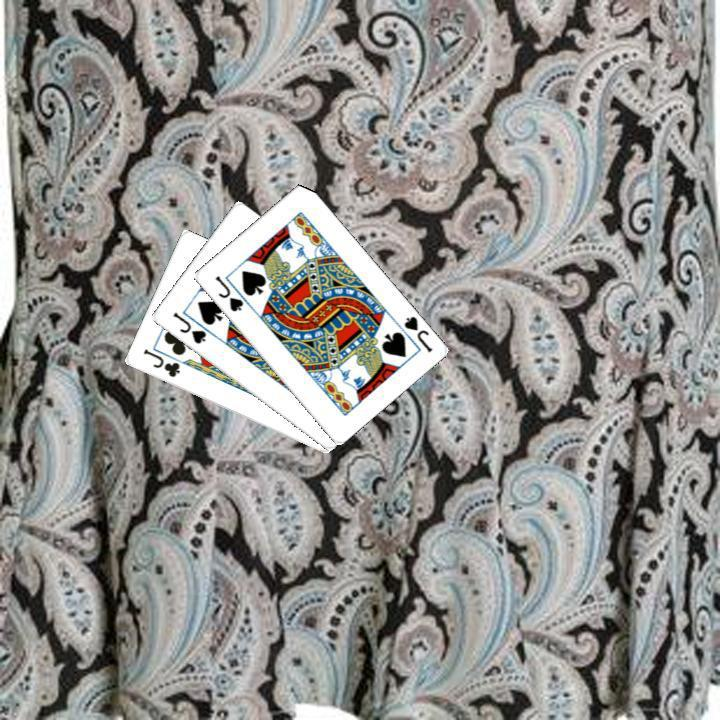J: (138, 344, 182, 380), (399, 311, 434, 355), (168, 308, 208, 346), (210, 271, 245, 314)
